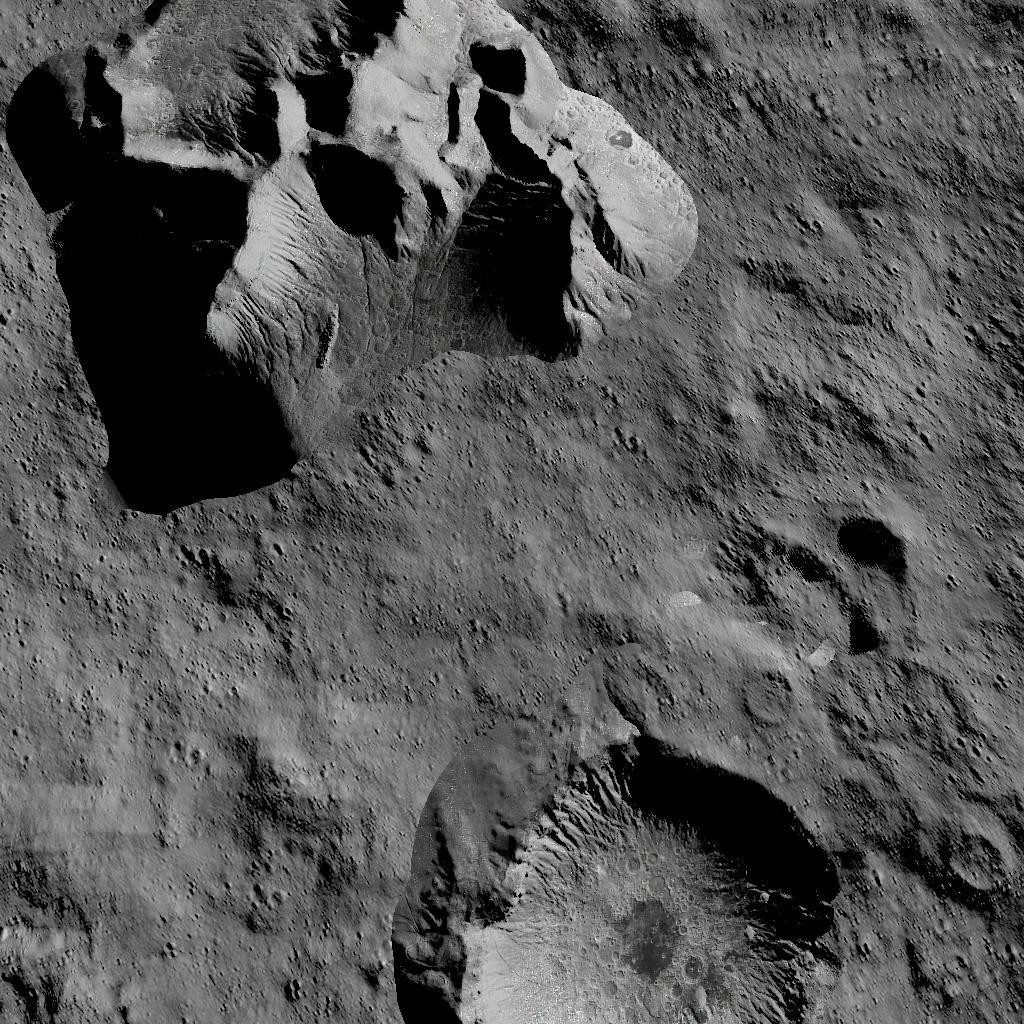Boulders: (0, 0, 700, 507)
Crater: (404, 726, 896, 1024), (822, 512, 925, 662)
Plan surface: (736, 4, 1024, 480), (127, 522, 397, 1024), (441, 516, 778, 713)
